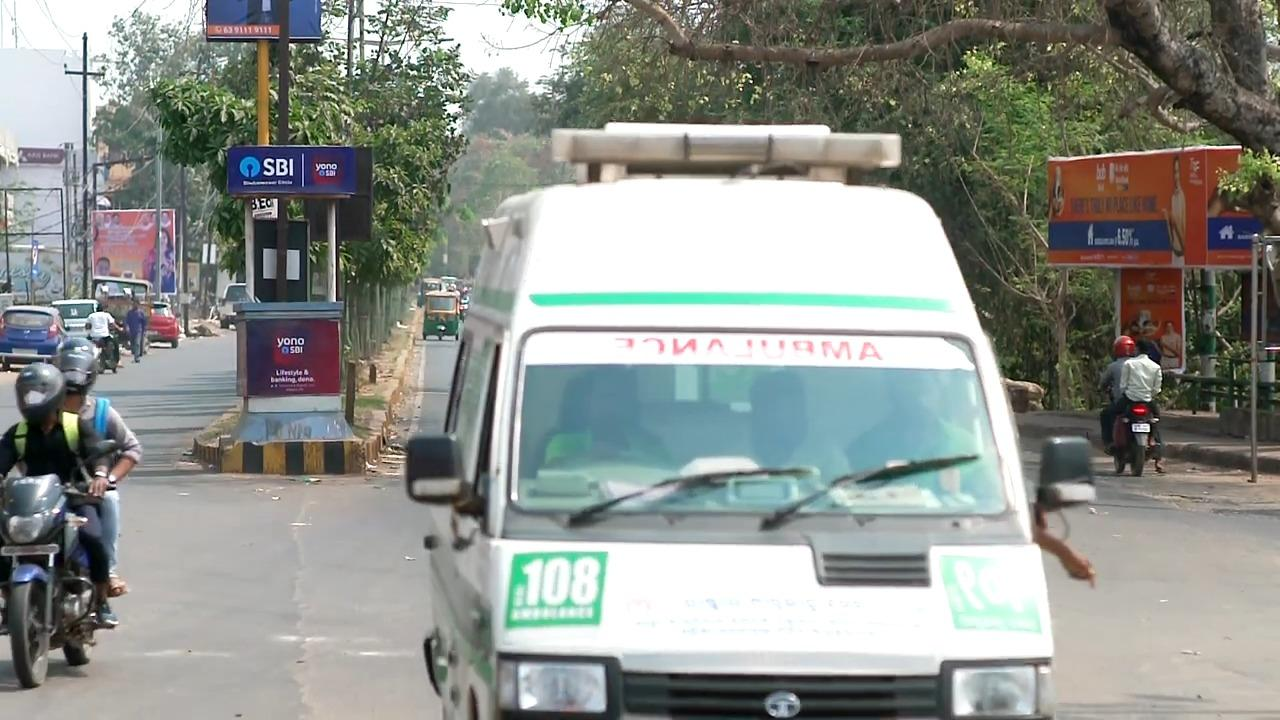ambulance: (375, 106, 1121, 720)
